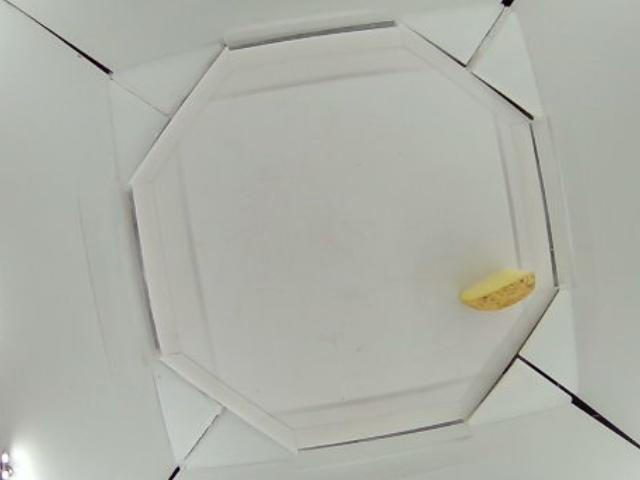Potato: (461, 267, 538, 314)
